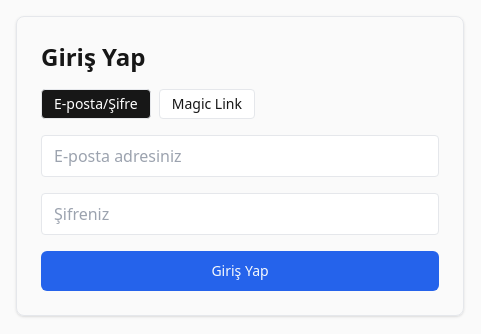
Test case: LoginPage › OTP Login › loading durumunda magic link button disable oluyor
expect the field with placeholder "E-posta adresiniz" is shown: met, box left=41, top=135, right=439, bottom=177
Step 1. Click the button "Magic Link" → [207, 104], box left=159, top=89, right=255, bottom=119
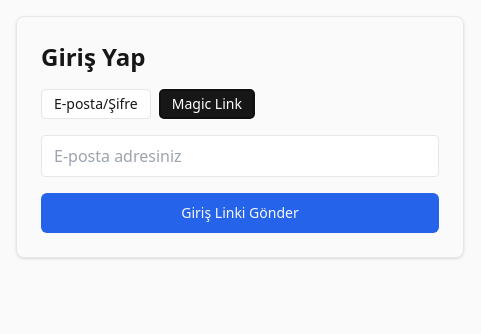
Step 2. Type "test@example.com" into the field with placeholder "E-posta adresiniz" → [240, 156], box left=41, top=135, right=439, bottom=177
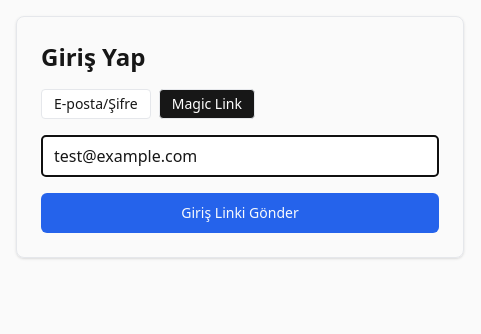
Step 3. Click the button "Giriş Linki Gönder" → [240, 213], box left=41, top=193, right=439, bottom=233
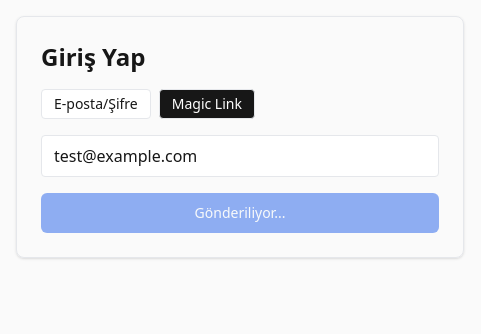
expect the button "Gönderiliyor..." is disabled: met, box left=41, top=193, right=439, bottom=233
